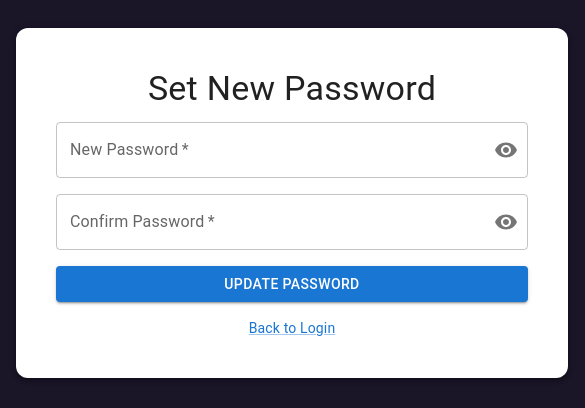
Scenario: ResetPasswordPage › form validation › shows an error when the passwords do not match
The image size is (585, 408).
Type "Newpassword123!" into the password field labelled "New Password *".
click(267, 150); type("Newpassword123!")  # box [56,122,478,178]
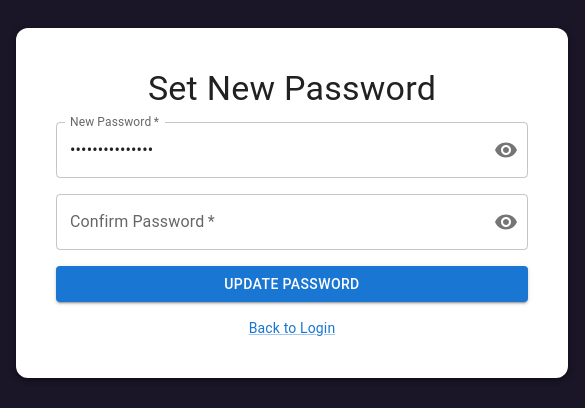
Type "doesnotmatch" into the password field labelled "Confirm Password *".
click(267, 222); type("doesnotmatch")  # box [56,194,478,250]
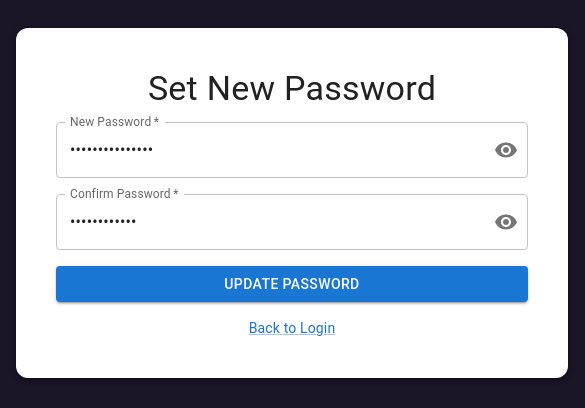
Click the button "Update Password".
click(292, 284)  # box [56,266,528,302]
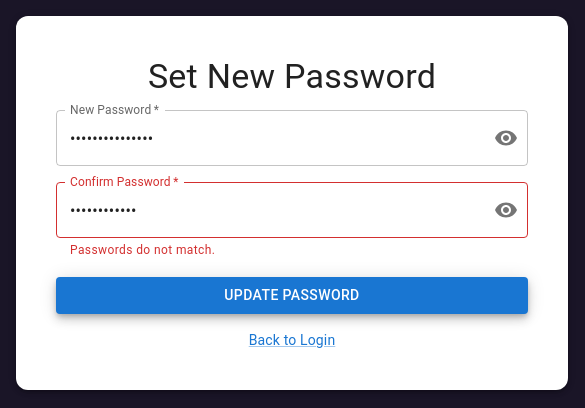
expect the text "Passwords do not match." is shown: met, box [70,243,215,257]
